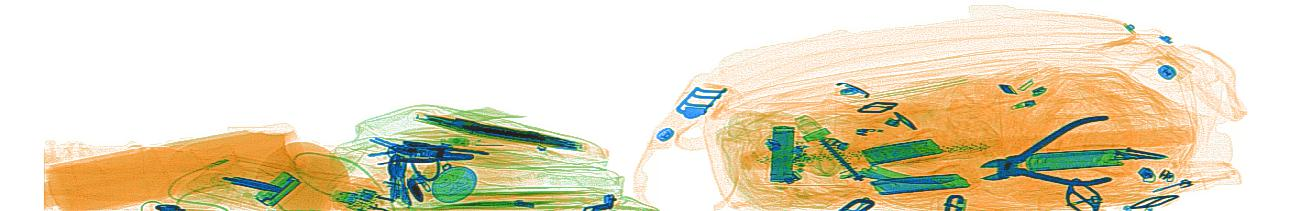battery: (769, 125, 796, 186)
knife: (1024, 147, 1129, 171), (871, 172, 971, 195)
